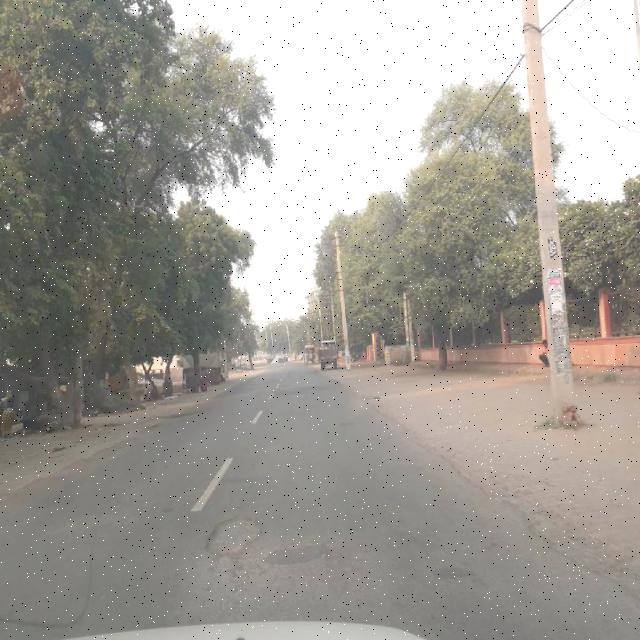D40: (201, 507, 272, 569)
